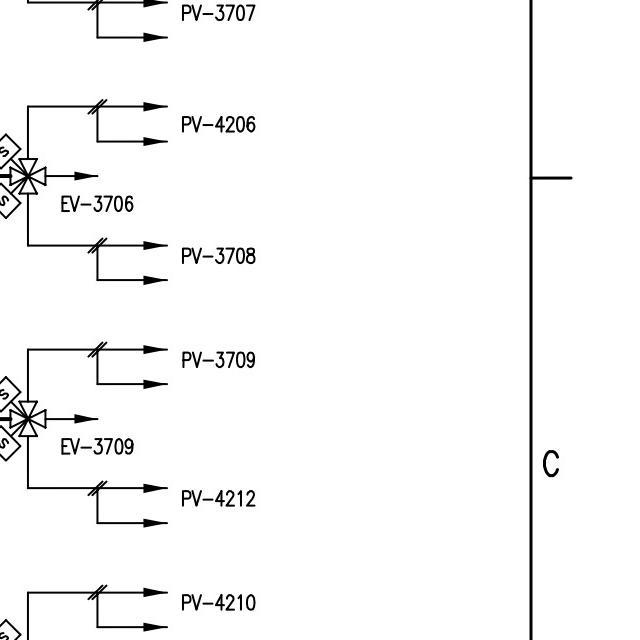4W: (7, 395, 51, 441), (9, 153, 51, 200)
